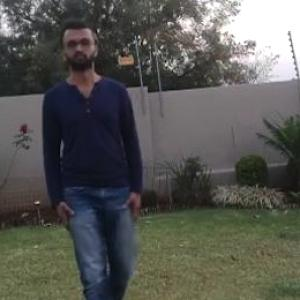follow: (46, 25, 143, 299)
